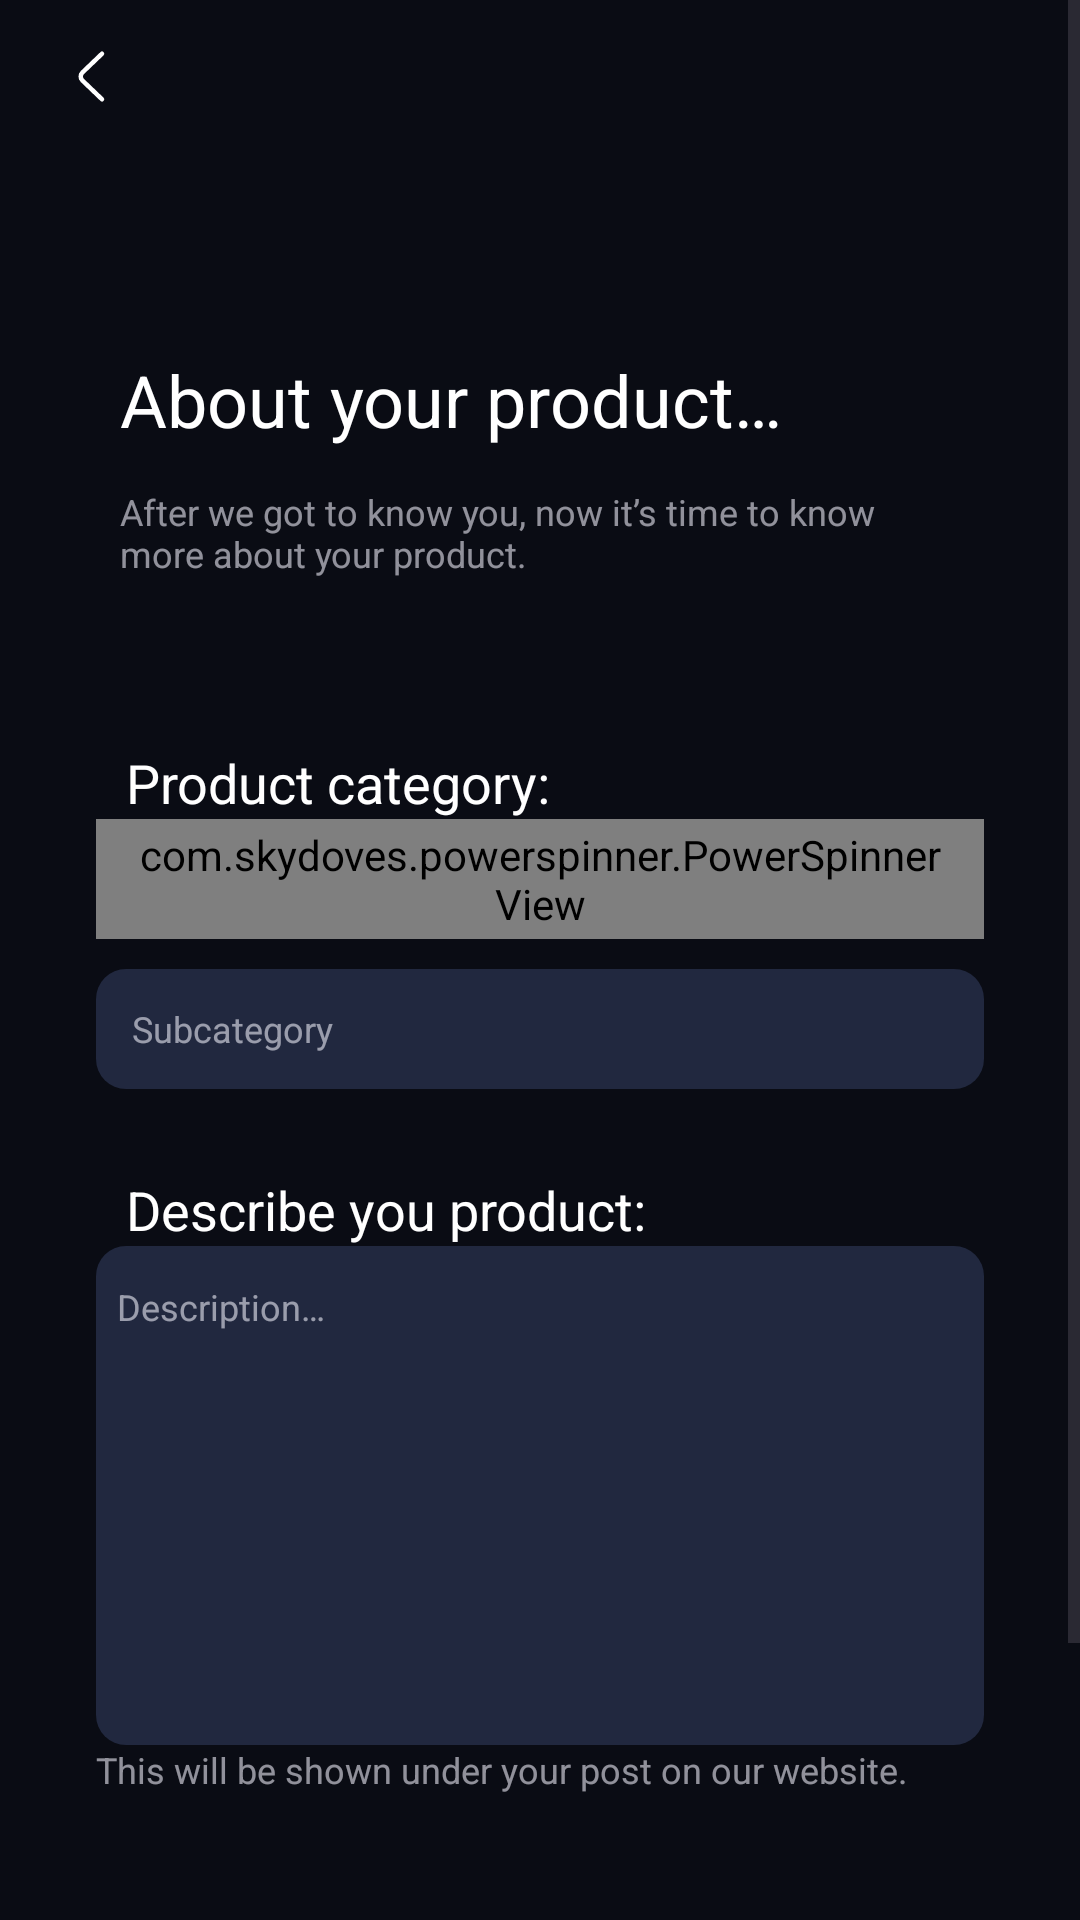

Icon click points for this 1080 × 1920 phone screenshot, format (x=x, y=y):
back arrow: (x=91, y=76)
